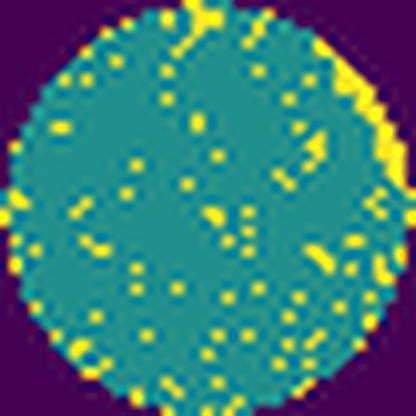Edge-Loc: (308, 33, 416, 199), (174, 0, 228, 58)
